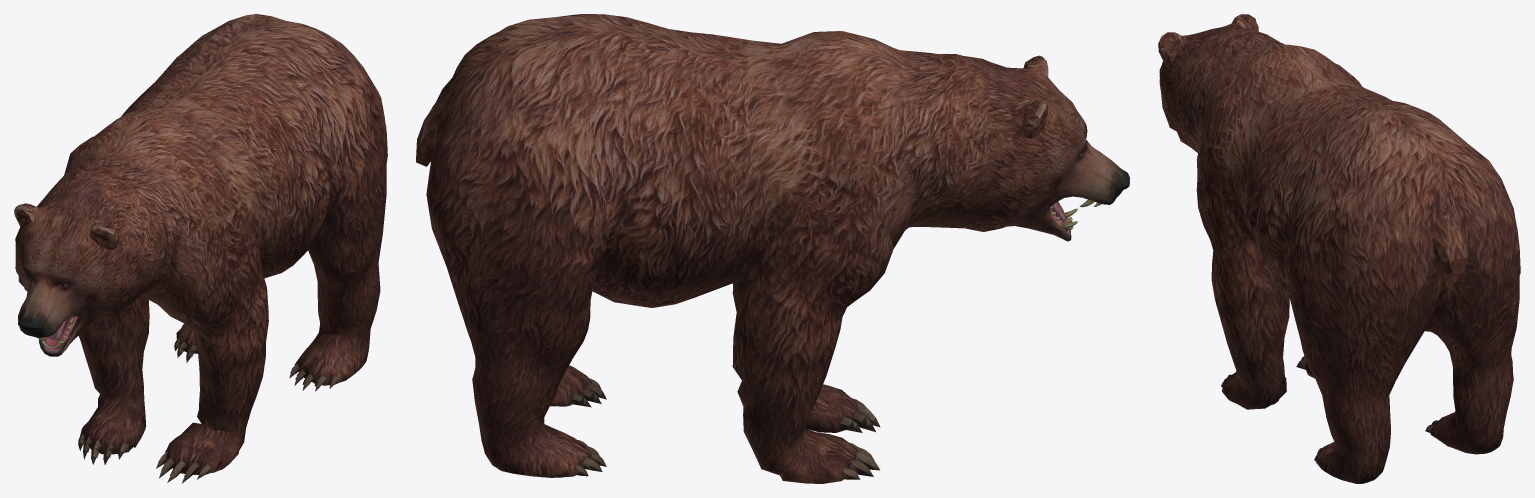
The model's file is bear2.glb.
The picture shows the model from 3 angles, left to right: view 1: azimuth 30°, elevation 25°; view 2: azimuth 150°, elevation 25°; view 3: azimuth 270°, elevation 25°; orthographic projection. The views are drawn at different scales.
Visible parts, largest first — view 1: PFT7TOLW1O68QOYQM5AT957UC.006; view 2: PFT7TOLW1O68QOYQM5AT957UC.006; view 3: PFT7TOLW1O68QOYQM5AT957UC.006.
Part boxes in pixels (x1,y1,x2,y2): PFT7TOLW1O68QOYQM5AT957UC.006: [14, 14, 387, 483]; PFT7TOLW1O68QOYQM5AT957UC.006: [416, 14, 1129, 483]; PFT7TOLW1O68QOYQM5AT957UC.006: [1158, 14, 1520, 483].
Size of the model in its own units: 1.76 by 1.26 by 1.21.
1 material, 1 textured.
